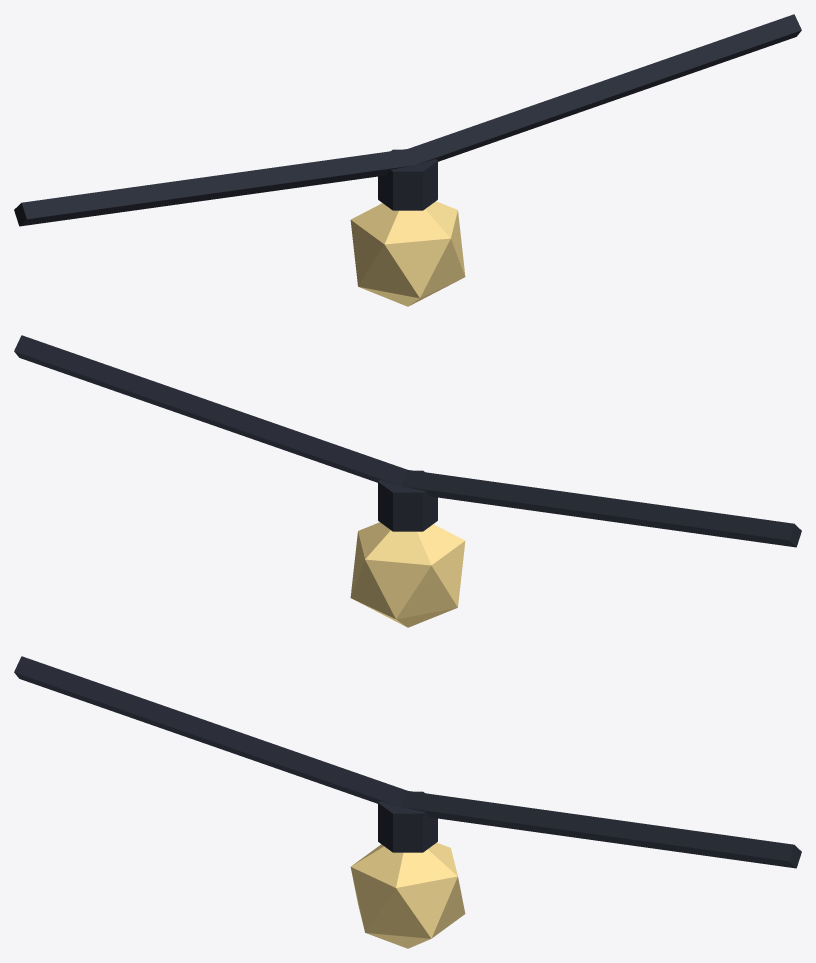
The model's file is StringLight.fbx.
3 views of the same model, one above another, from view 1: azimuth 30°, elevation 25°; view 2: azimuth 150°, elevation 25°; view 3: azimuth 330°, elevation 25° (orthographic).
Parts seen in each view (by area): view 1: StringLight_Iron, StringLight_GlowWarm; view 2: StringLight_Iron, StringLight_GlowWarm; view 3: StringLight_Iron, StringLight_GlowWarm.
Boxes of the visible parts, x1,y1,x2,y2 form: StringLight_Iron: (14,14,801,226); StringLight_GlowWarm: (350,201,465,306); StringLight_Iron: (14,335,801,547); StringLight_GlowWarm: (350,522,465,627); StringLight_Iron: (14,656,801,868); StringLight_GlowWarm: (350,842,465,948).
Size of the model in its own units: 417 by 102 by 51.04.
